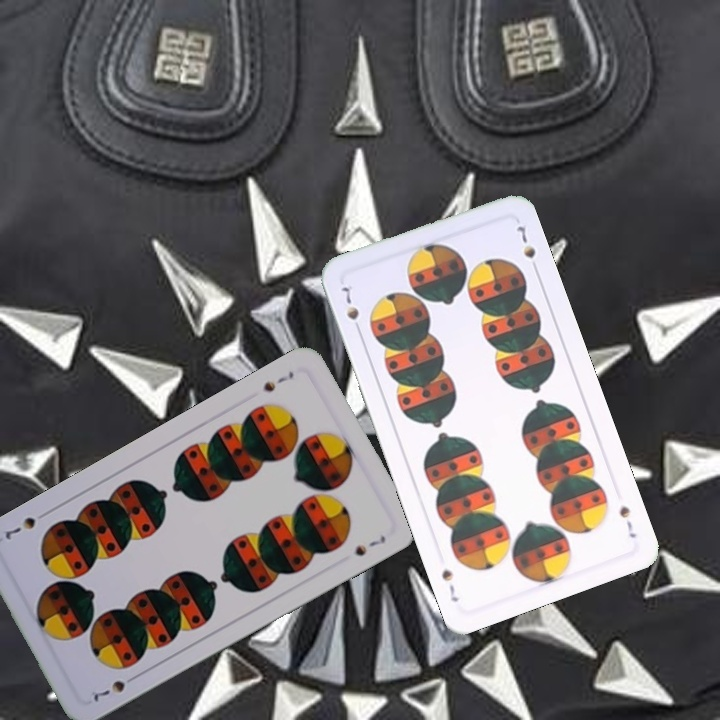S7: (89, 670, 141, 705), (337, 282, 364, 337), (259, 367, 297, 395), (615, 501, 639, 541)
